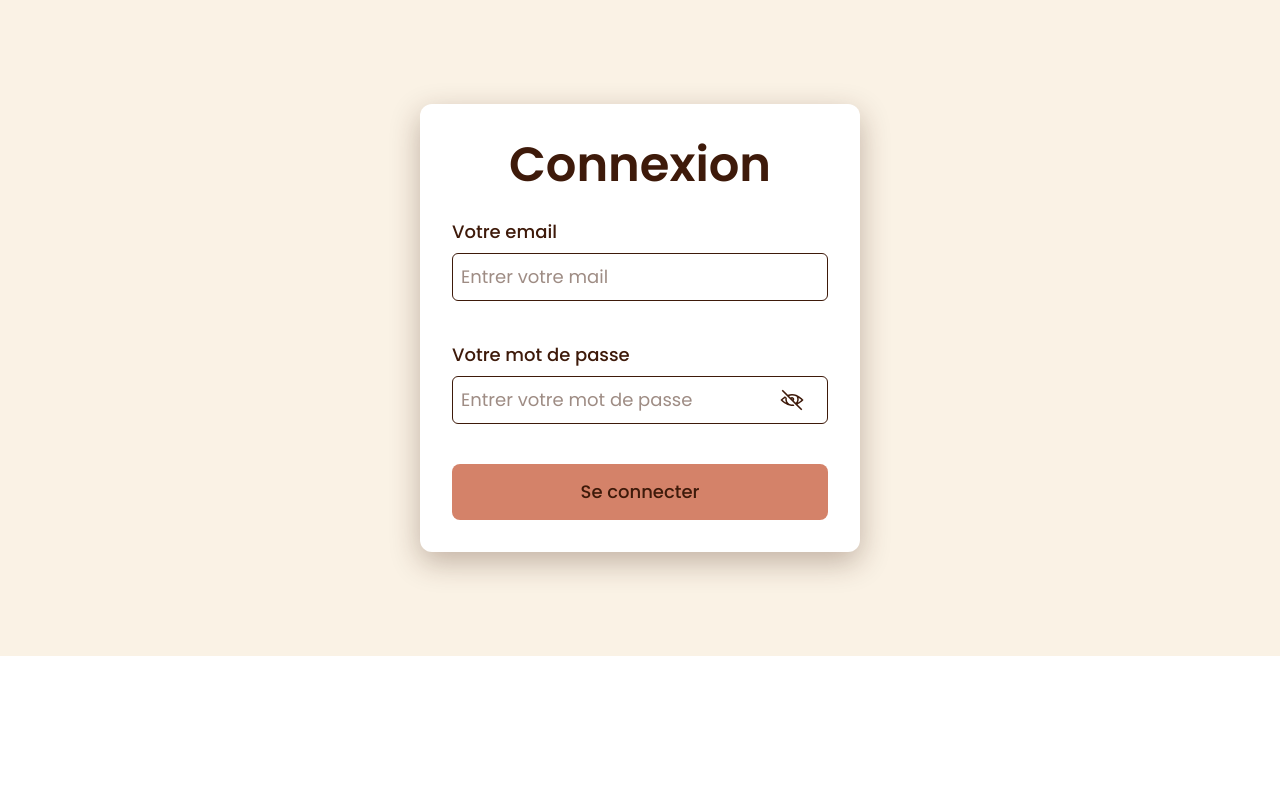
Test d'intégration page Login › Valide le formulaire et affiche les erreurs si les champs sont vides
The image size is (1280, 800).
Simule le clic
Click the button "Se connecter" at point(640, 492), box x1=452 y1=464 x2=828 y2=520
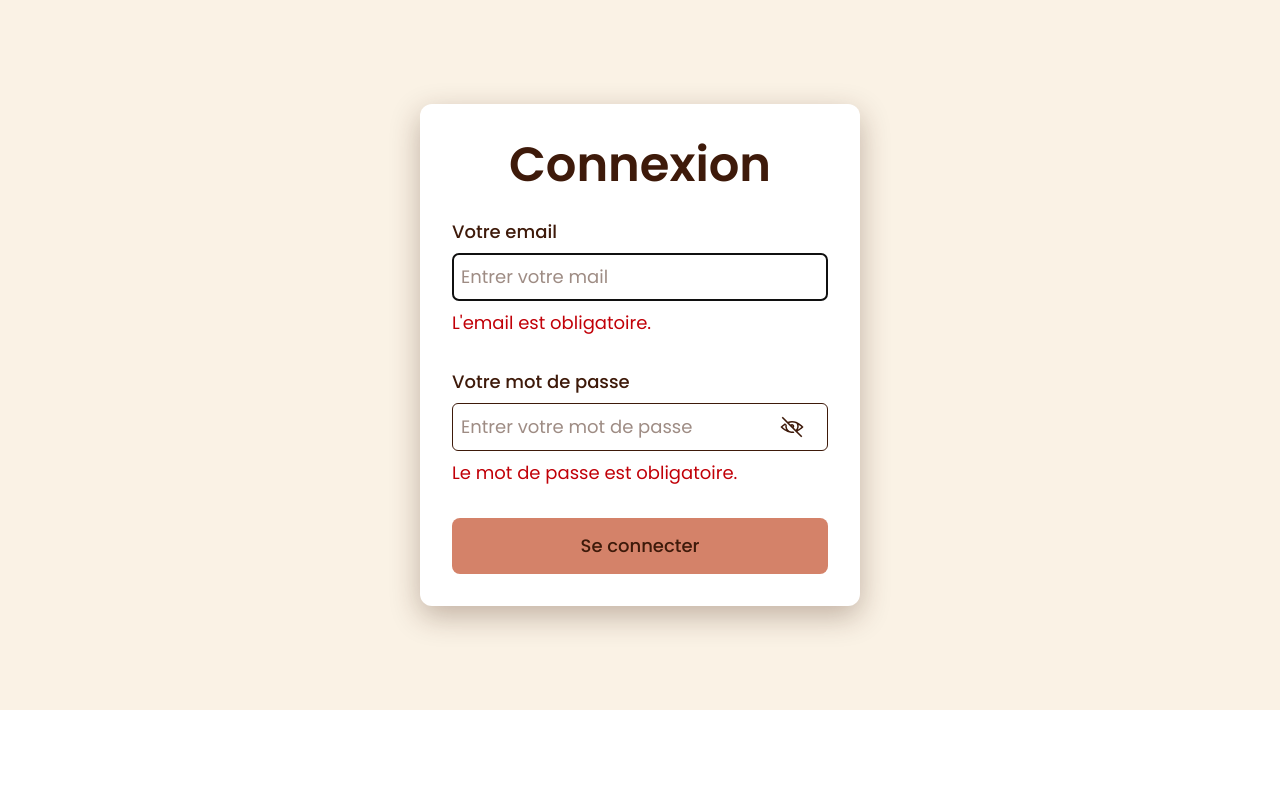
Expected: the text "L'email est obligatoire." is shown, x1=452 y1=310 x2=651 y2=335
Expected: the text "Le mot de passe est obligatoire." is shown, x1=452 y1=460 x2=737 y2=485
